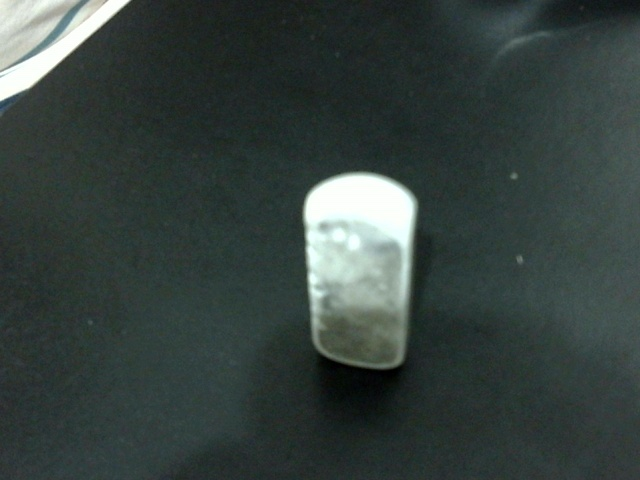eraser: (280, 154, 437, 381)
